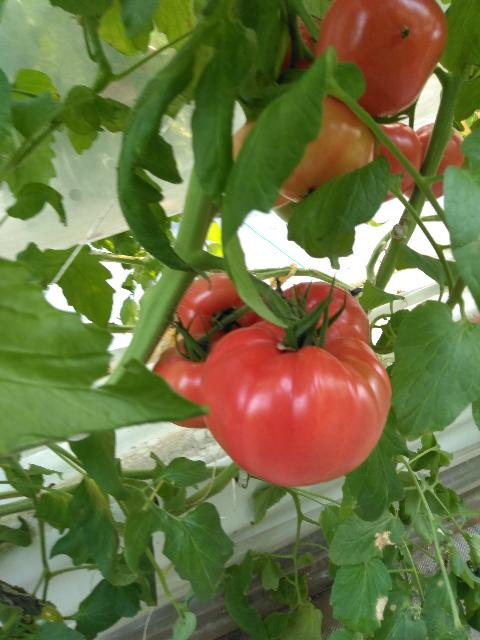b_fully_ripened: (201, 319, 392, 487), (316, 0, 448, 118), (151, 334, 226, 428), (279, 281, 370, 346), (175, 273, 259, 337), (402, 122, 465, 202), (371, 121, 422, 202)
